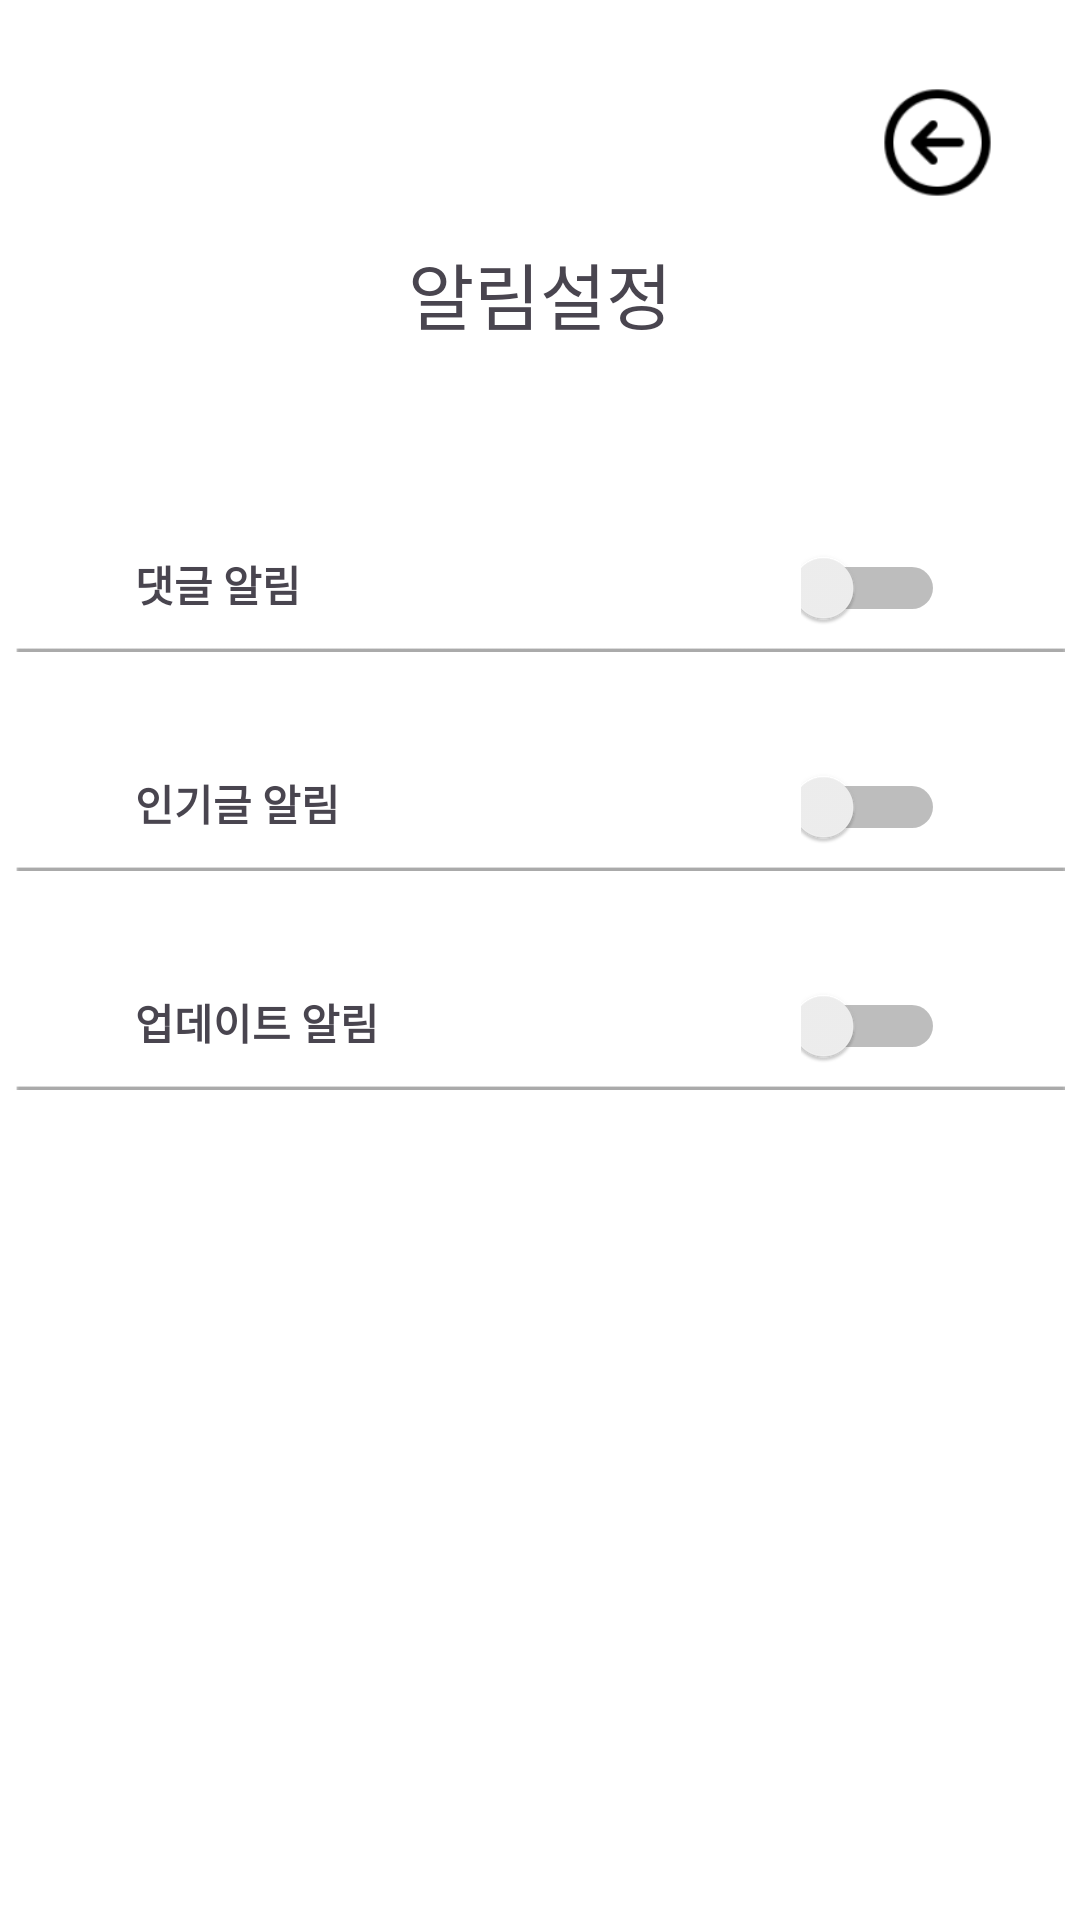

Icon click points for this 1080px×1920px phone screenshot, format point (x, y):
arrow: point (937, 142)
